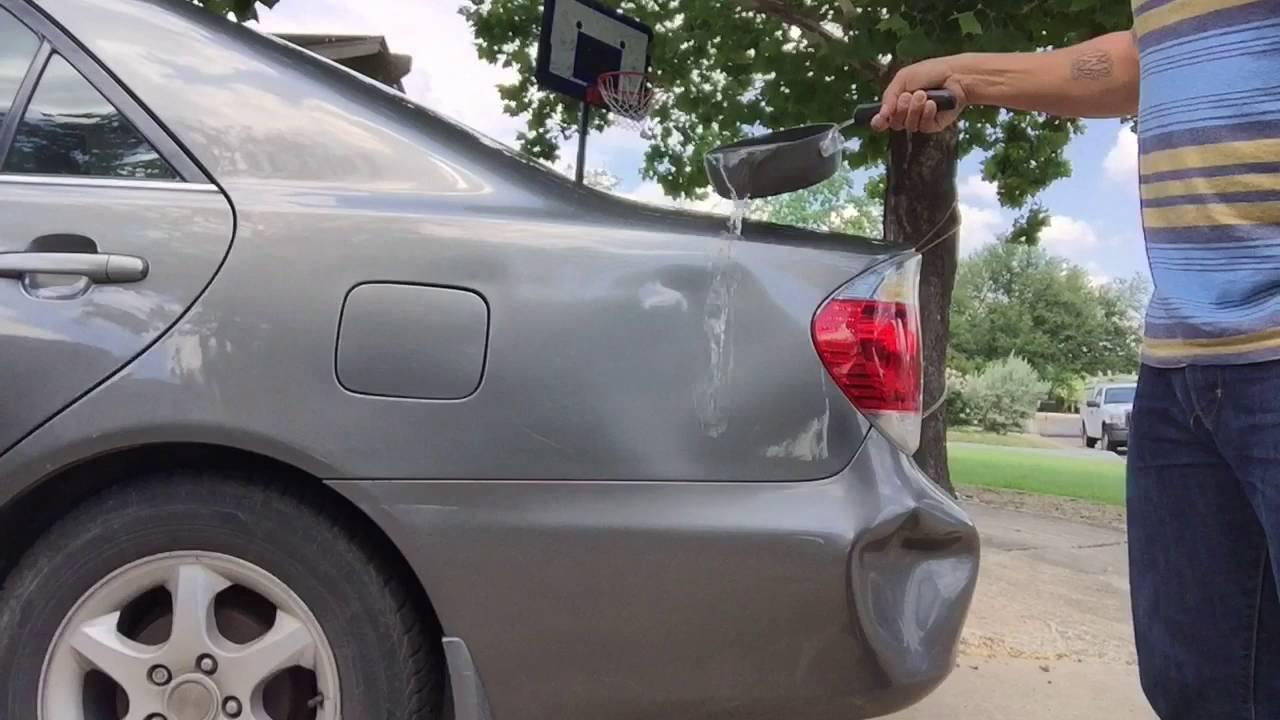rear-bumper-dent: (421, 462, 1017, 719)
